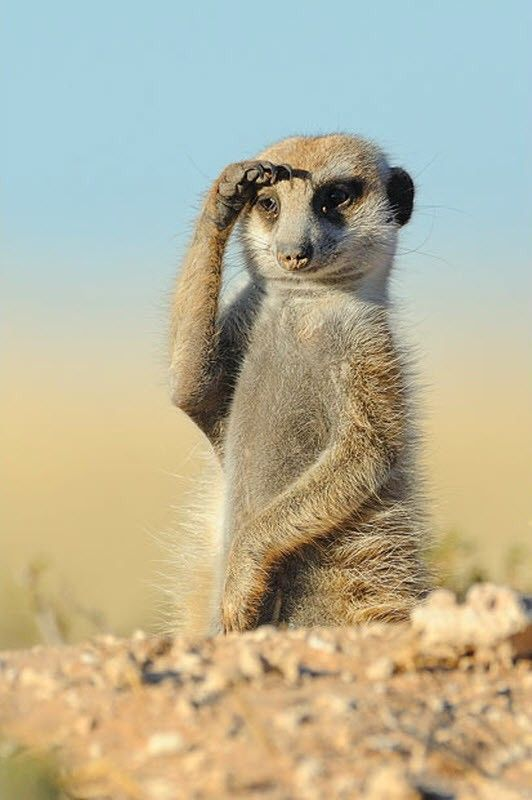meerkat: (168, 108, 462, 643)
